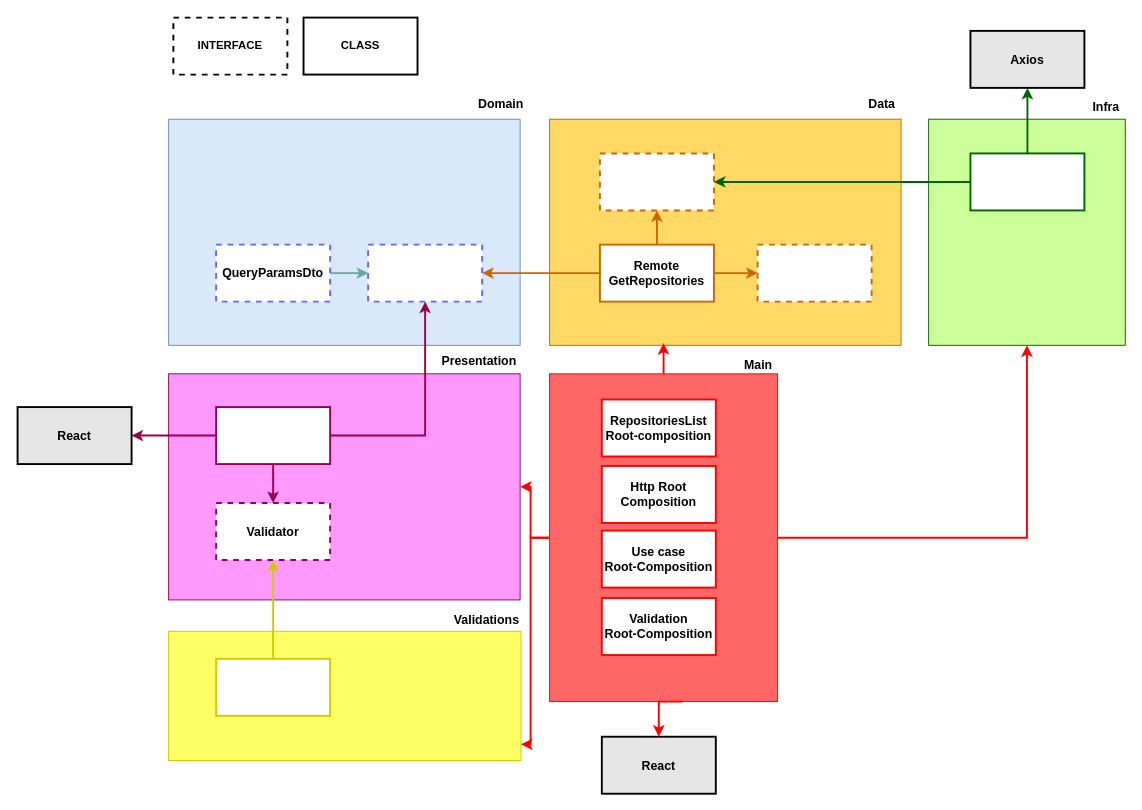
Some shapes in this 1142 by 810 pixel diagram are drawn without their labels. Here are the shapes that lost their labels. From the top down, the centre of each, then its label:
(656,181): HttpClient
(1027,181): AxiosHttpClient
(425,272): getRepositories
(814,272): Url
(273,435): RepositoriesList
(273,686): Validator Composite
